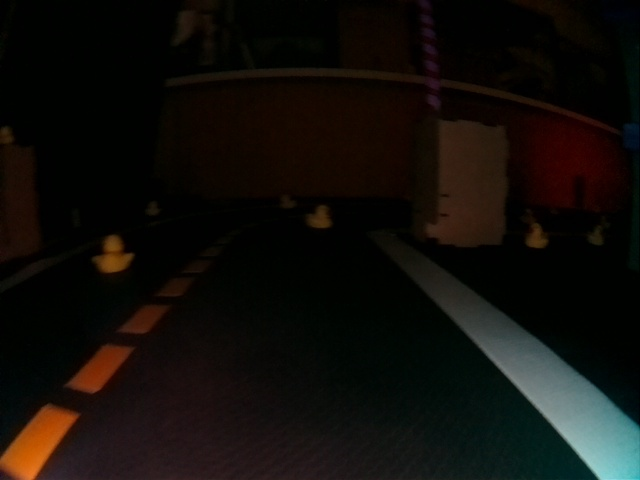Duckie: (92, 235, 132, 271), (308, 205, 332, 229), (525, 224, 548, 248), (590, 227, 603, 246), (0, 126, 13, 144), (280, 194, 294, 207), (522, 209, 534, 223), (600, 216, 611, 228), (146, 204, 156, 214)
